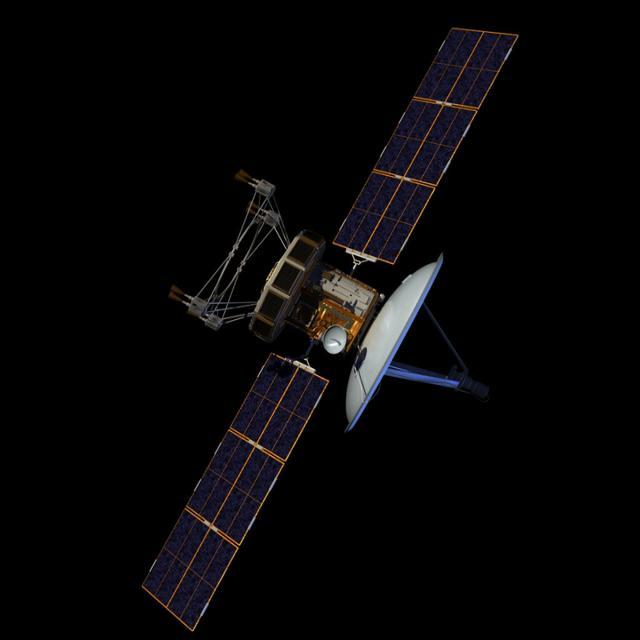sat: (130, 10, 523, 638)
